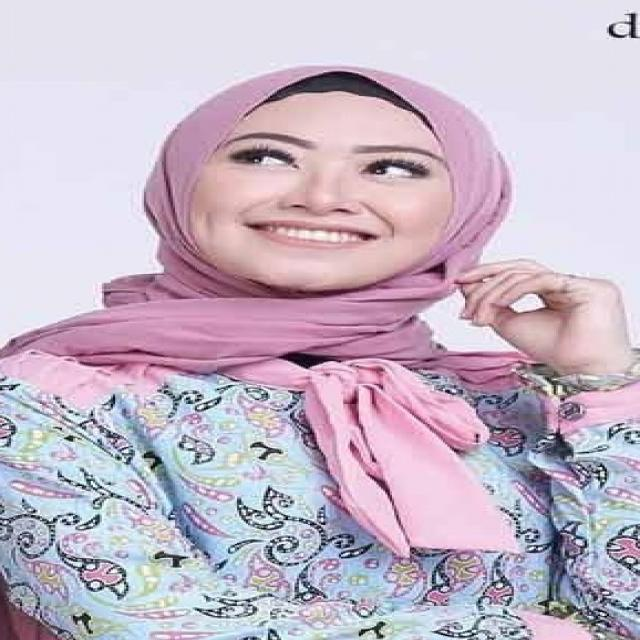head: (147, 65, 520, 304)
